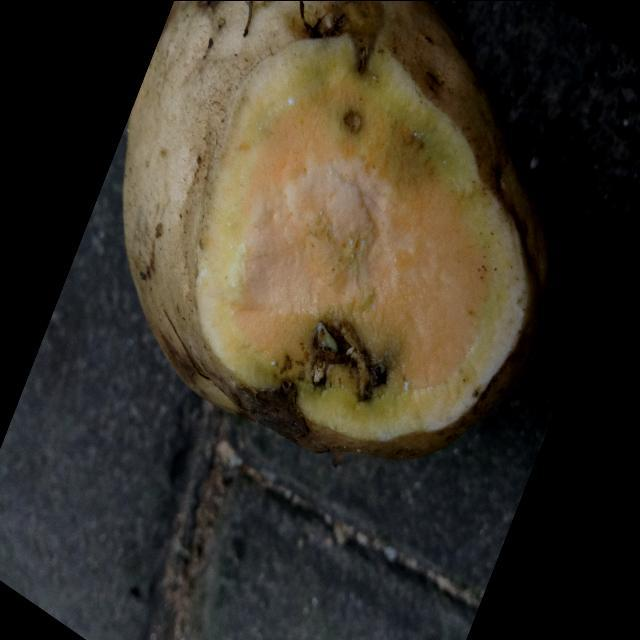Sick Sweet Potato_Tuber Rot: (196, 35, 530, 440)
